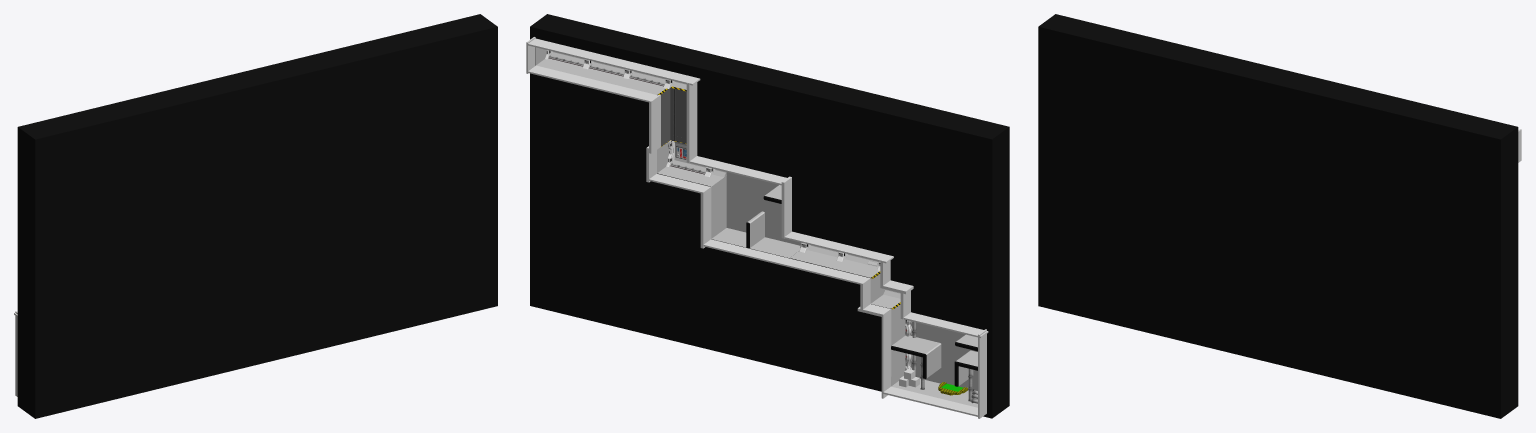
The model's file is Map_Level_2.FBX.
3 renders of one model, left to right at view 1: azimuth 30°, elevation 25°; view 2: azimuth 150°, elevation 25°; view 3: azimuth 330°, elevation 25°, orthographic.
Visible parts, largest first — view 1: Box026; view 2: Box026, Object037, Object033, Box037, Box046, Plane118, Box036, Plane126, Box047, Box039, Box054, Box045 (+16 smaller); view 3: Box026.
Part boxes in pixels (x1=…): Box026: x1=17, y1=14, x2=497, y2=418; Box026: x1=530, y1=14, x2=1009, y2=418; Object037: x1=711, y1=172, x2=800, y2=257; Object033: x1=891, y1=304, x2=977, y2=407; Box037: x1=528, y1=38, x2=700, y2=85; Box046: x1=703, y1=239, x2=869, y2=284; Plane118: x1=657, y1=81, x2=686, y2=146; Box036: x1=528, y1=65, x2=660, y2=102; Plane126: x1=657, y1=140, x2=706, y2=183; Box047: x1=784, y1=231, x2=893, y2=263; Box039: x1=686, y1=82, x2=697, y2=162; Box054: x1=882, y1=386, x2=978, y2=416; Box045: x1=689, y1=156, x2=786, y2=185; Box026: x1=1038, y1=14, x2=1518, y2=418.
Size of the model in its own units: 601 by 347 by 56.4.
